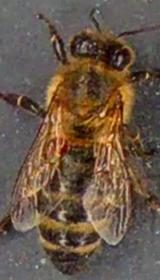varroa_mite: (28, 128, 76, 164)
